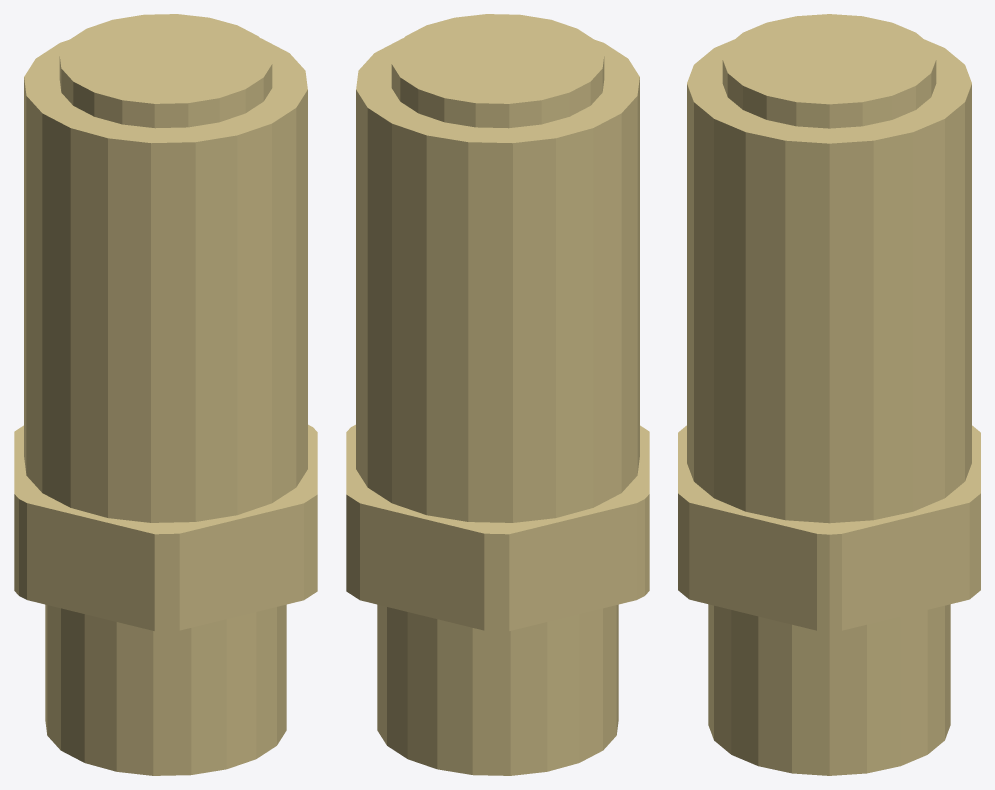
Rendered from silencer.glb.
3 views of the same model, side by side, from view 1: azimuth 30°, elevation 25°; view 2: azimuth 150°, elevation 25°; view 3: azimuth 270°, elevation 25° (orthographic).
Visible parts, largest first — view 1: body, port-1; view 2: body, port-1; view 3: body, port-1.
Part boxes in pixels (bbox=[...]): body: bbox=[24, 14, 307, 522]; port-1: bbox=[14, 424, 317, 775]; body: bbox=[356, 14, 639, 522]; port-1: bbox=[346, 424, 649, 775]; body: bbox=[687, 14, 971, 523]; port-1: bbox=[678, 425, 980, 775].
Size of what is drawn, in the model's own units: 0.019 by 0.0412 by 0.017.
